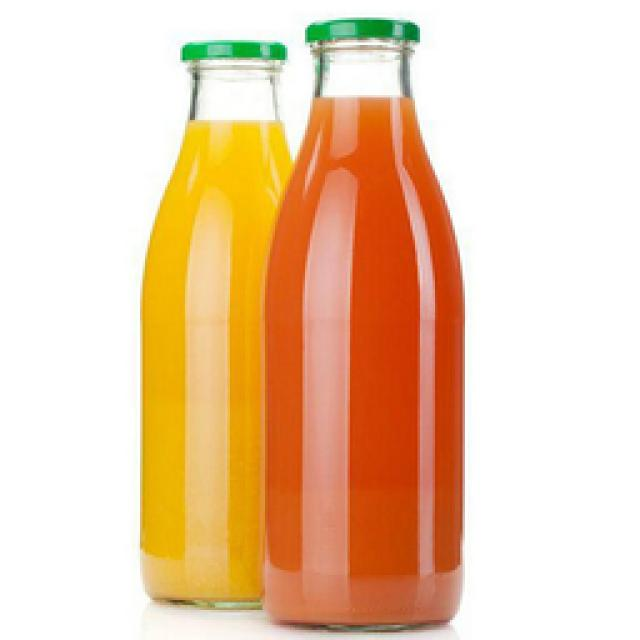glass_beverage_bottles: (283, 17, 472, 628), (143, 30, 270, 610)
